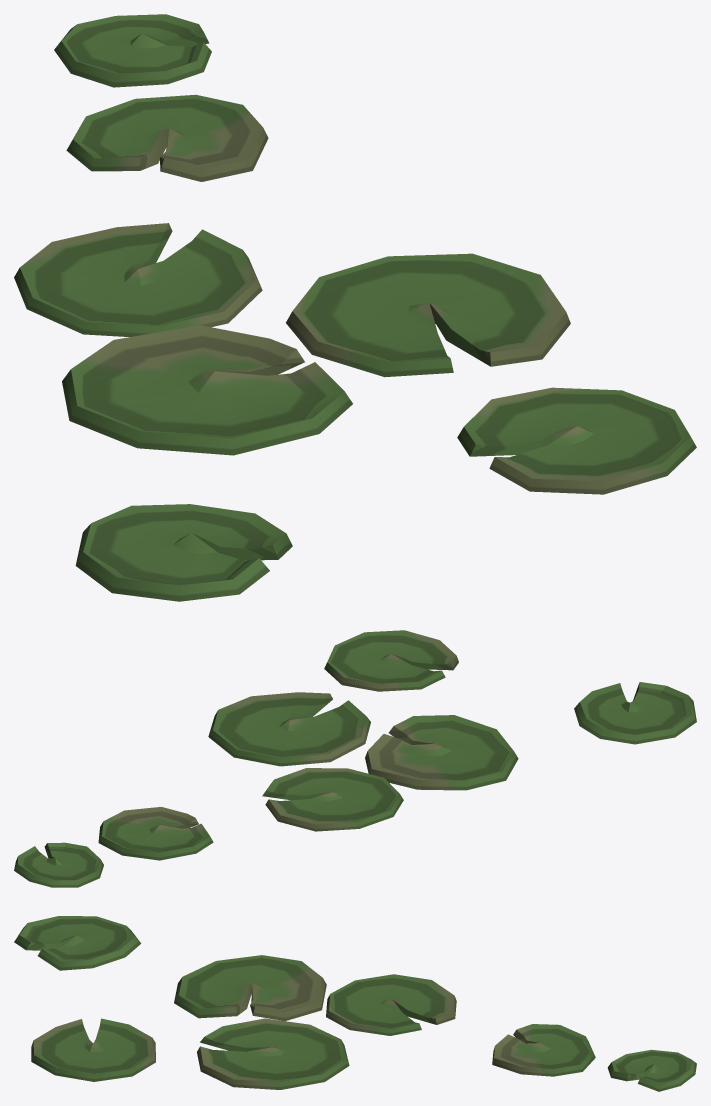
File: swamp_SM_Env_LillyPads_02.gltf
3 renders of one model, top to bottom at view 1: azimuth 30°, elevation 25°; view 2: azimuth 150°, elevation 25°; view 3: azimuth 270°, elevation 25°, orthographic. The views are drawn at different scales.
Parts seen in each view (by area): view 1: SM_Env_LillyPads_02_LOD0; view 2: SM_Env_LillyPads_02_LOD0; view 3: SM_Env_LillyPads_02_LOD0.
Boxes of the visible parts, bbox=[...] form: SM_Env_LillyPads_02_LOD0: bbox=[14, 14, 696, 601]; SM_Env_LillyPads_02_LOD0: bbox=[14, 630, 696, 887]; SM_Env_LillyPads_02_LOD0: bbox=[14, 916, 696, 1091].
Size of what is drawn, in the model's own units: 1.99 by 0.0757 by 3.34.
Materials: 1 (1 with a texture image).
